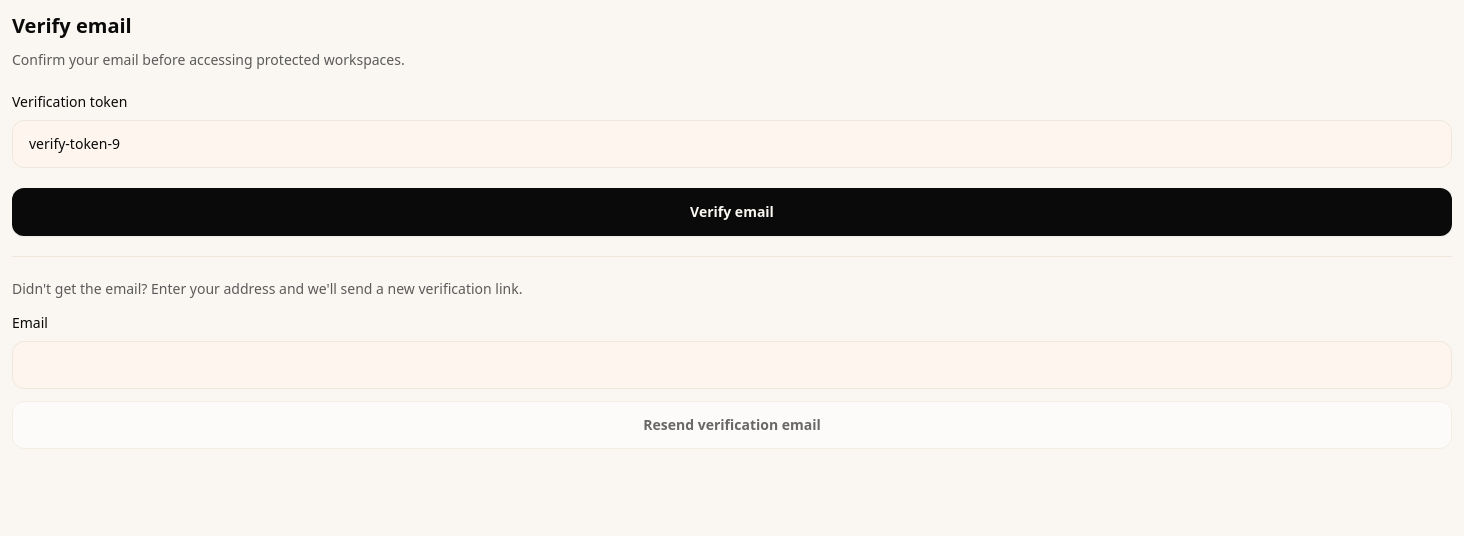
Test: VerifyEmailForm › verifies the email with the prefilled token
Click the button "Verify email" at (732, 212), box [12,188,1452,236]
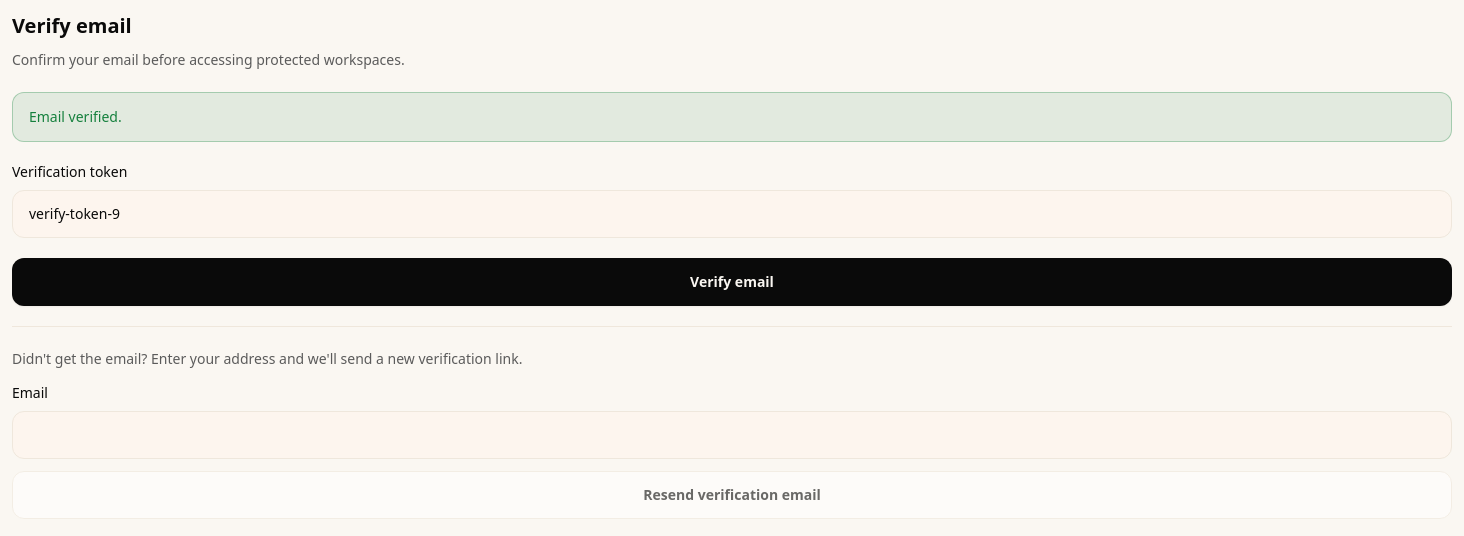
Now the text "Email verified." is shown, box [12,92,1452,142]
